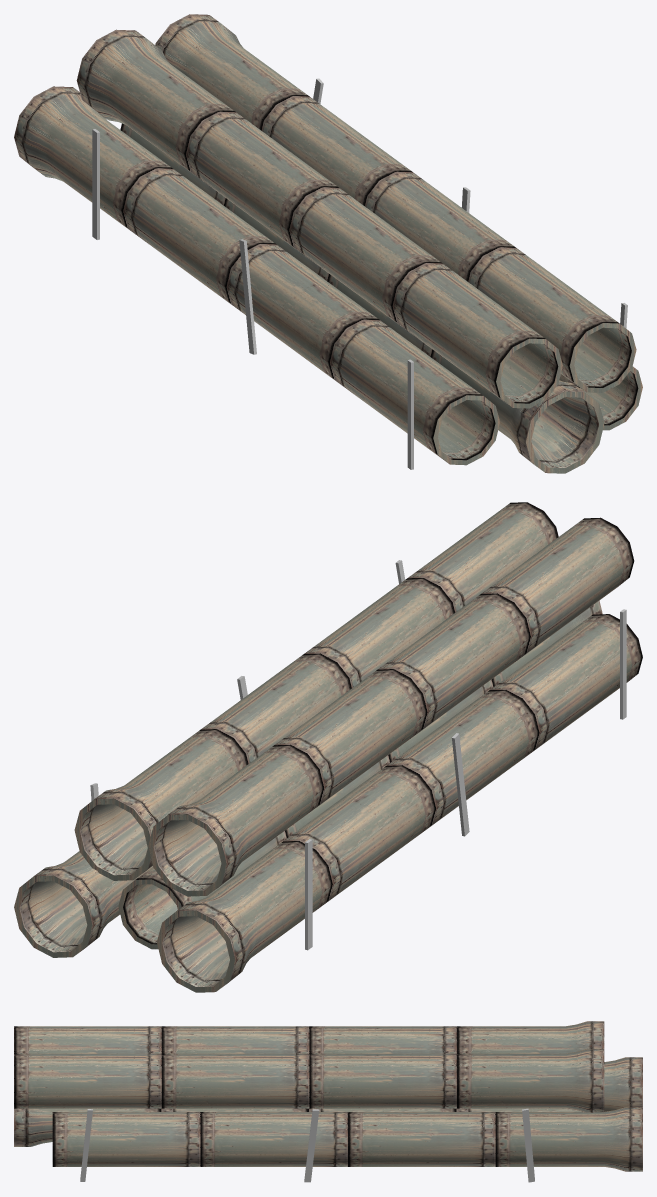
The model's file is pipes.fbx.
3 views of the same model, one above another, from view 1: azimuth 30°, elevation 25°; view 2: azimuth 150°, elevation 25°; view 3: azimuth 270°, elevation 25° (orthographic). The views are drawn at different scales.
Visible parts, largest first — view 1: Mesh Object; view 2: Mesh Object; view 3: Mesh Object.
Part boxes in pixels (x1,y1,x2,y2): Mesh Object: (14,14,642,473); Mesh Object: (14,502,642,992); Mesh Object: (14,1021,642,1182).
Size of the model in its own units: 3.23 by 2.13 by 10.94.
